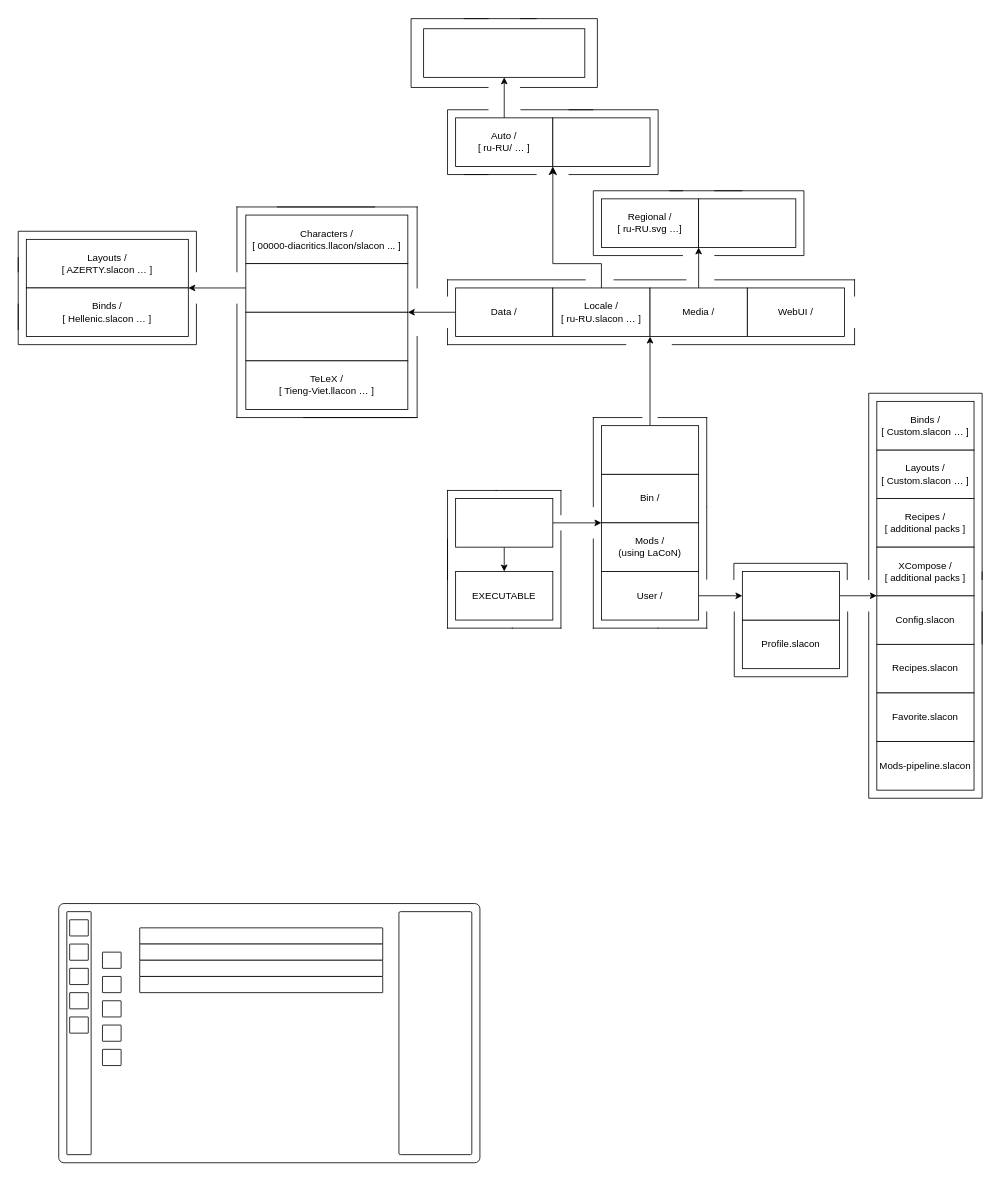
The diagram is 1000 pixels wide and 1177 high, and some of its shapes have lost their labels. Here are the shapes that lost their labels. From the top down, the box of each, then its label:
(423, 28, 585, 77): ru-RU / … [ hellenic_ru-RU.slacon … ]
(552, 117, 650, 166): options.slacon
(698, 198, 796, 247): Icons / [ app.svg … ]
(245, 263, 408, 312): Mappings / [ latin.slacon ... ]
(245, 311, 408, 361): Scripter / [ alternative-modes.slacon ... ]
(601, 425, 699, 474): Assets /
(455, 498, 553, 547): DSL KeyPad /
(742, 571, 840, 620): profile-<NAME> /
